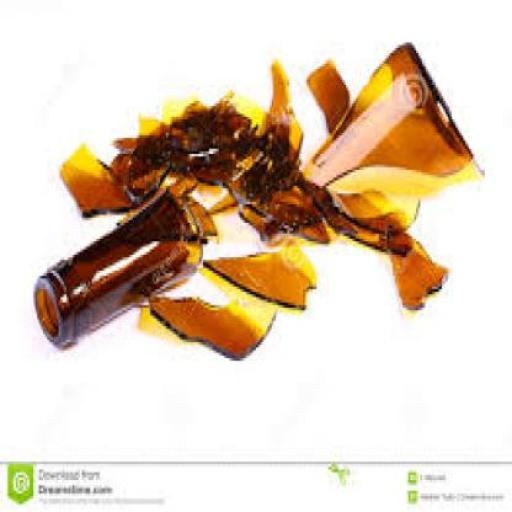glass: (301, 40, 483, 191), (34, 185, 201, 348), (106, 90, 260, 191), (203, 56, 302, 212), (226, 162, 356, 242), (197, 236, 315, 313), (146, 289, 274, 358), (58, 141, 168, 212), (384, 222, 448, 308), (328, 186, 418, 230), (304, 55, 348, 138), (168, 172, 215, 236)
